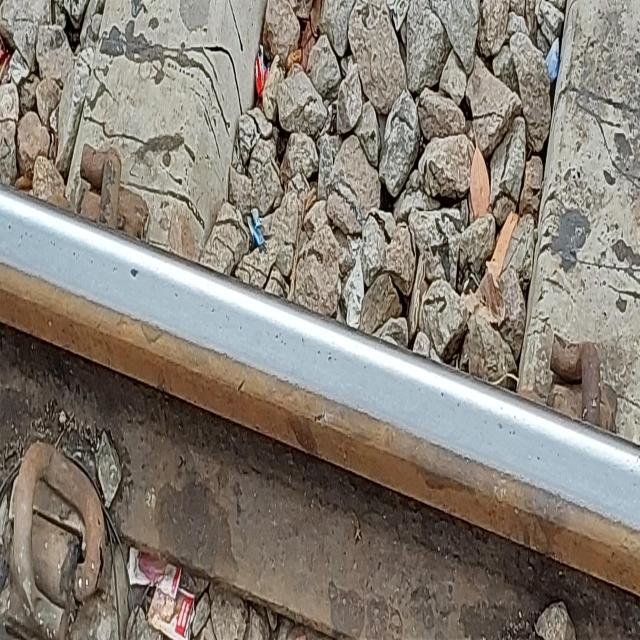squats_high: (275, 329, 287, 351), (129, 263, 141, 283), (327, 349, 337, 369)
